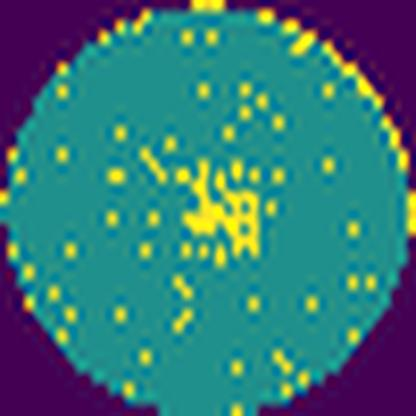Center: (180, 160, 261, 258)
